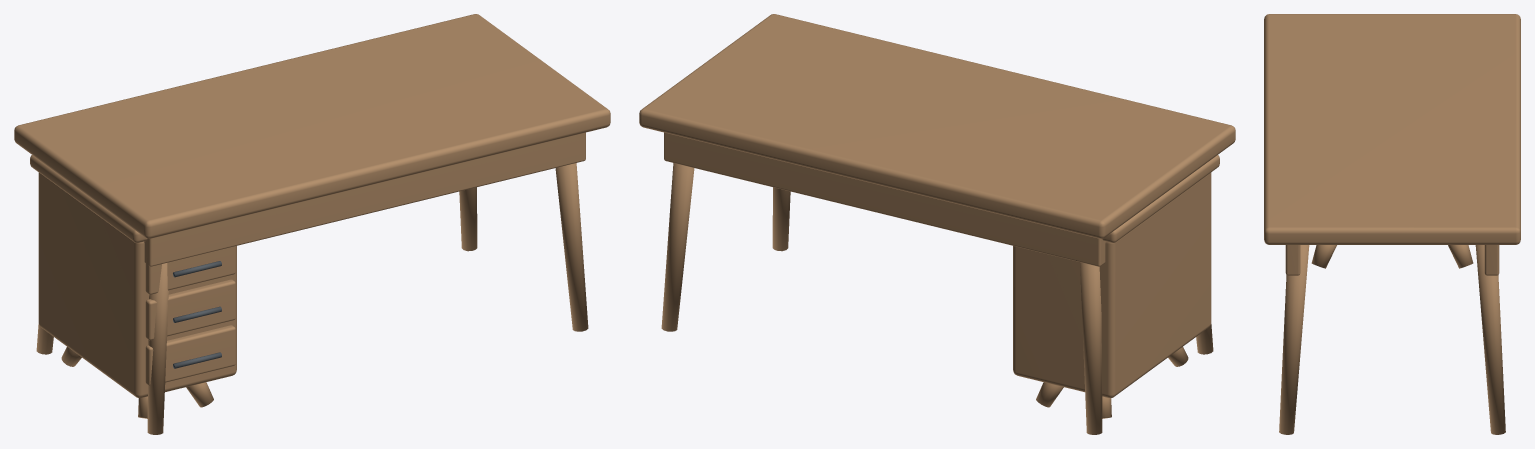
The model's file is atelier-writing-desk.glb.
The picture shows the model from 3 angles, left to right: view 1: azimuth 30°, elevation 25°; view 2: azimuth 150°, elevation 25°; view 3: azimuth 270°, elevation 25°; orthographic projection. The views are drawn at different scales.
Parts seen in each view (by area): view 1: legs.044, metal.014; view 2: legs.044; view 3: legs.044.
Boxes of the visible parts, bbox=[...] form: legs.044: bbox=[14, 14, 610, 434]; metal.014: bbox=[173, 261, 221, 368]; legs.044: bbox=[639, 14, 1235, 434]; legs.044: bbox=[1264, 14, 1520, 434].
Bounding box in the file's own units: 1.6 × 0.7418 × 0.8.
